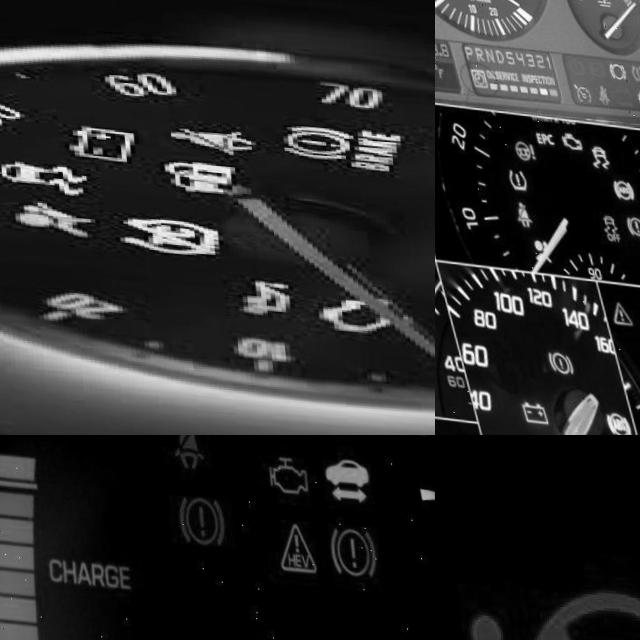Electronic Power Steering: (454, 574, 640, 640)
Electronic Power Steering Warning: (508, 131, 536, 155)
Seat Belt: (164, 121, 252, 154), (161, 435, 199, 466), (507, 193, 529, 221), (594, 76, 608, 96)
